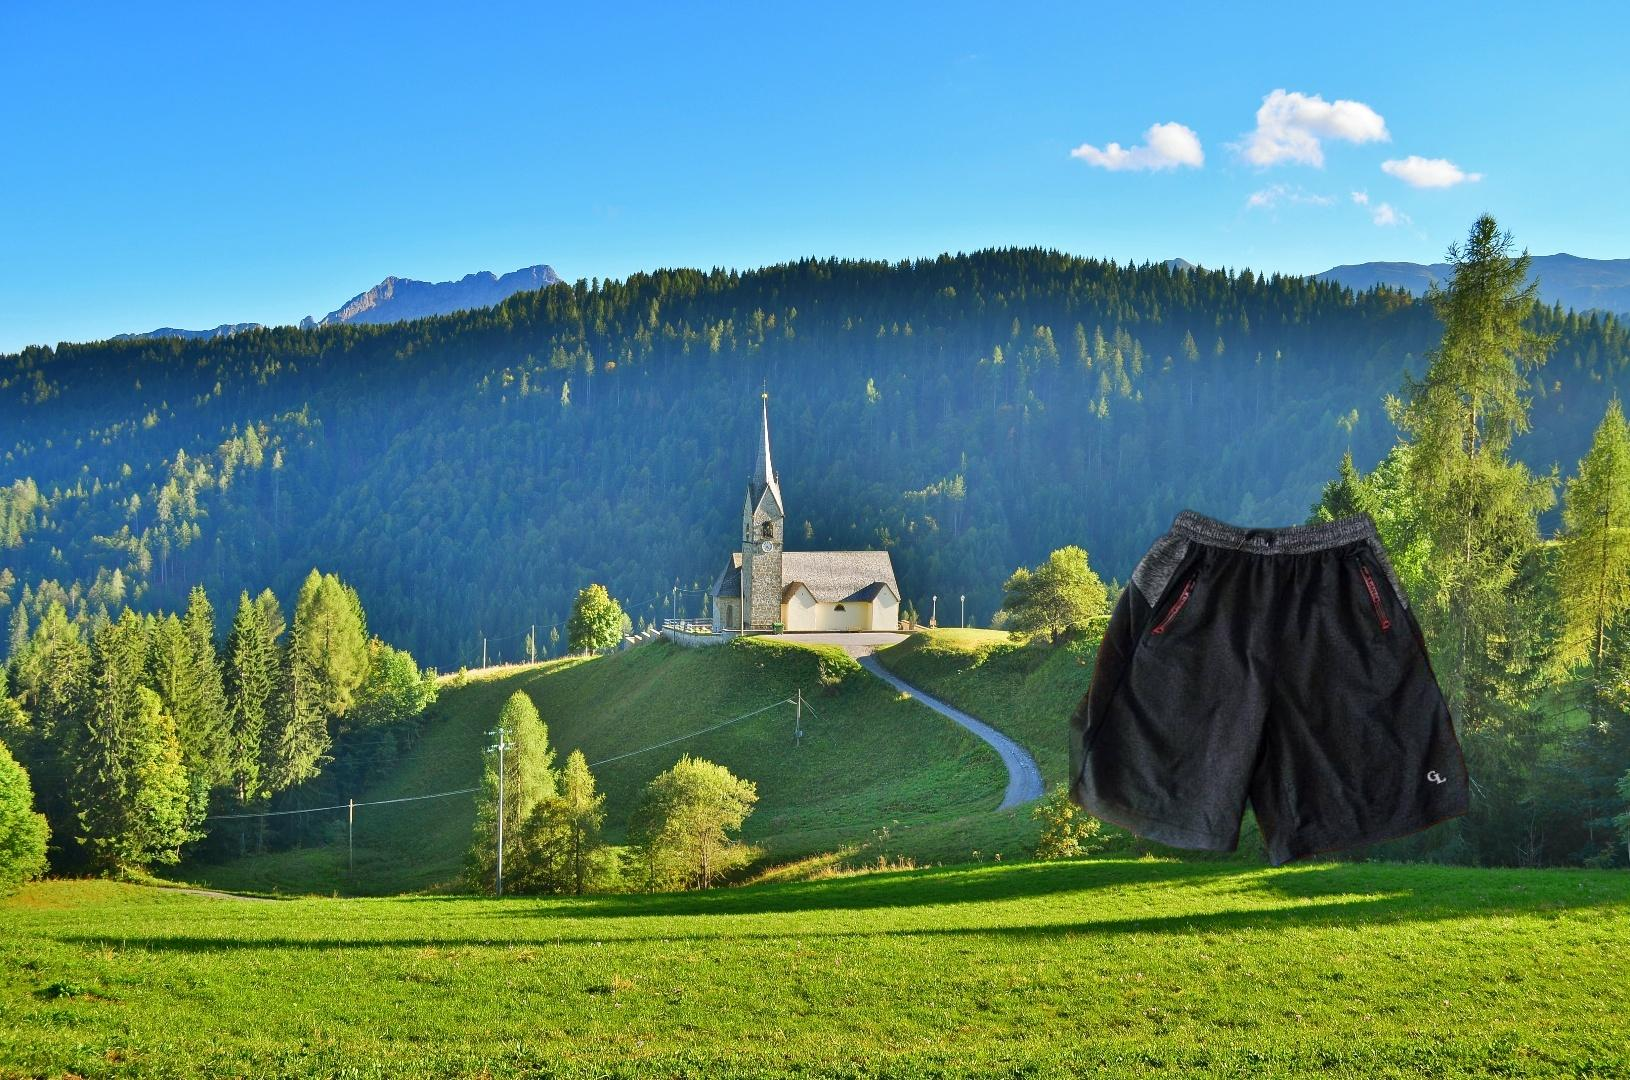clothes: (1069, 505, 1469, 871)
